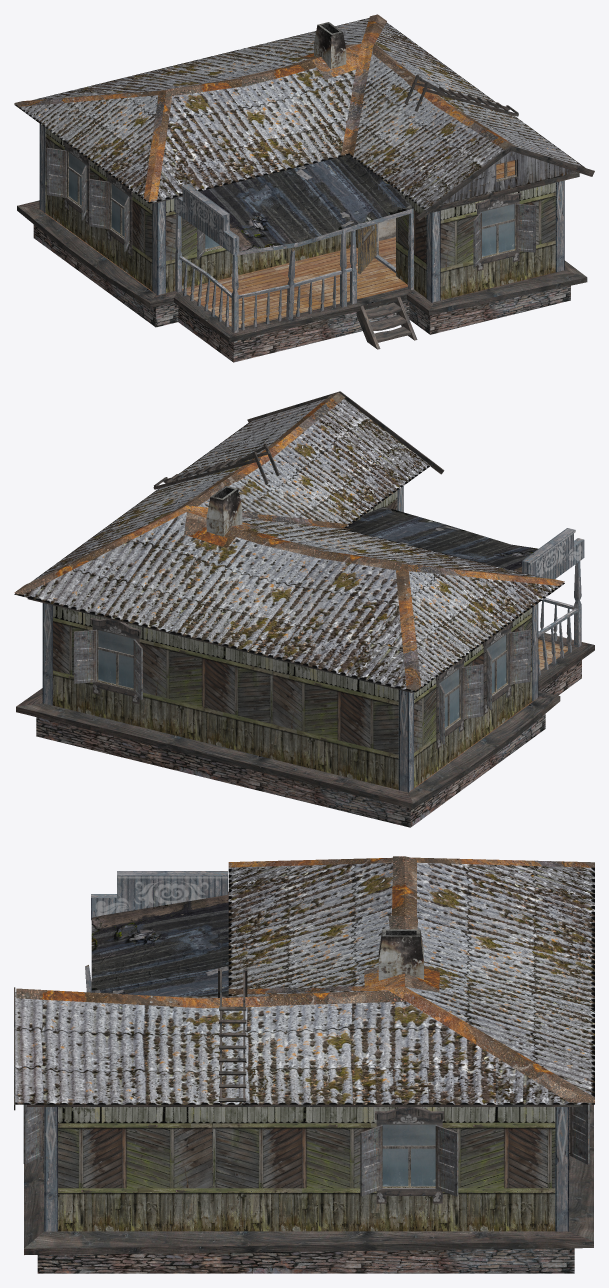
Rendered from old-house.obj.
The picture shows the model from 3 angles, top to bottom: view 1: azimuth 30°, elevation 25°; view 2: azimuth 150°, elevation 25°; view 3: azimuth 270°, elevation 25°; orthographic projection. The views are drawn at different scales.
Visible parts, largest first — view 1: House.001_House; view 2: House.001_House; view 3: House.001_House.
Part boxes in pixels (<box>): House.001_House: <box>14,14,594,362</box>; House.001_House: <box>14,391,594,827</box>; House.001_House: <box>14,856,594,1273</box>.
Size of the model in its own units: 8.33 by 4.37 by 8.44.
Materials: 3 (3 with a texture image).
